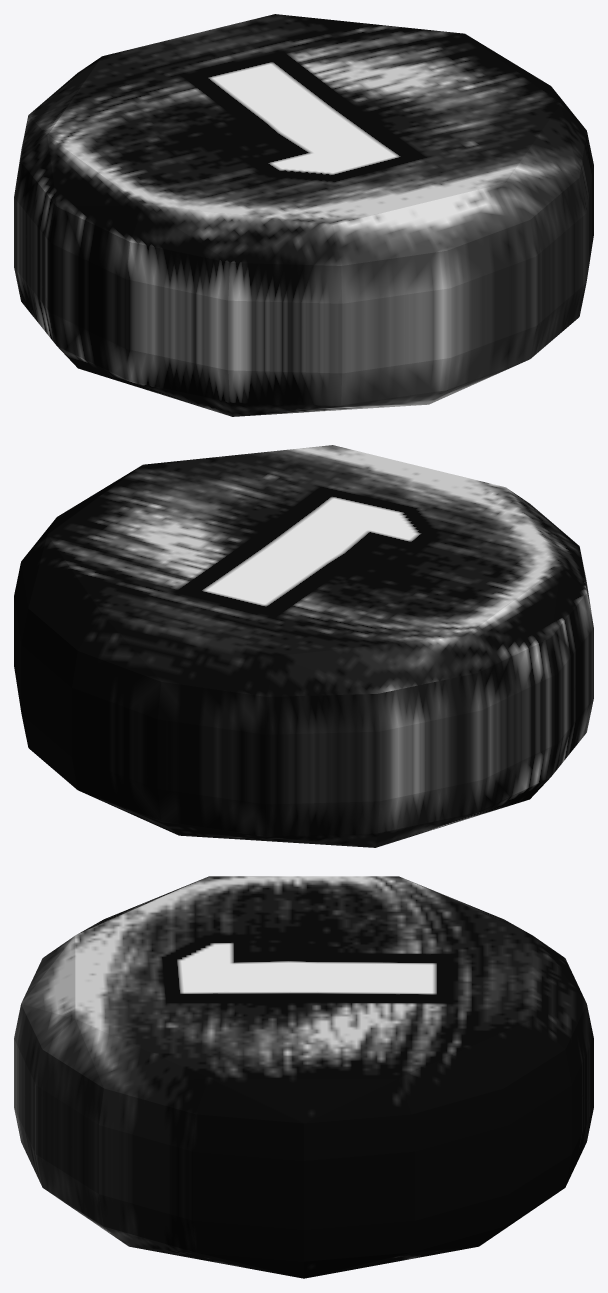
File: white2.dae
3 views of the same model, one above another, from view 1: azimuth 30°, elevation 25°; view 2: azimuth 150°, elevation 25°; view 3: azimuth 270°, elevation 25° (orthographic).
Visible parts, largest first — view 1: m0; view 2: m0; view 3: m0.
Boxes of the visible parts, <box> form: m0: <box>14,14,593,416</box>; m0: <box>14,445,593,847</box>; m0: <box>14,876,593,1278</box>.
Bounding box in the file's own units: 40.59 × 14.83 × 40.59.
Materials: 1 (1 with a texture image).
